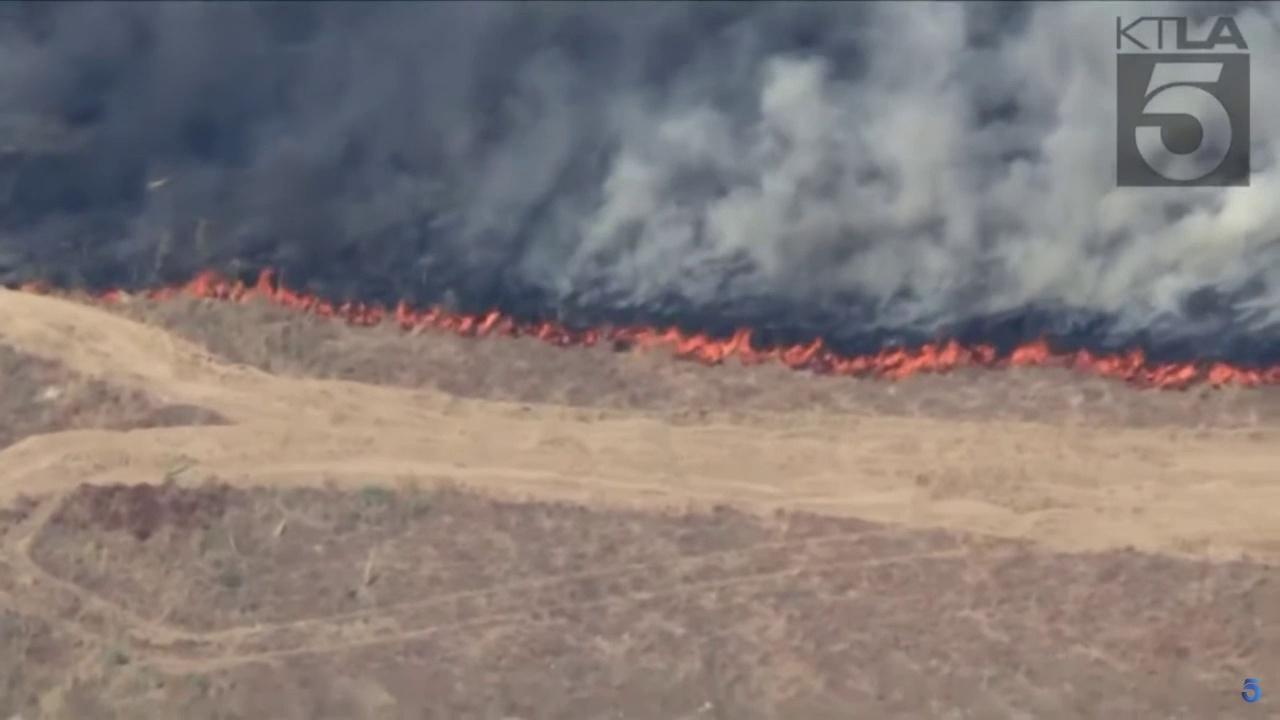fire: (101, 263, 1280, 393)
smoke: (0, 0, 1280, 415)
